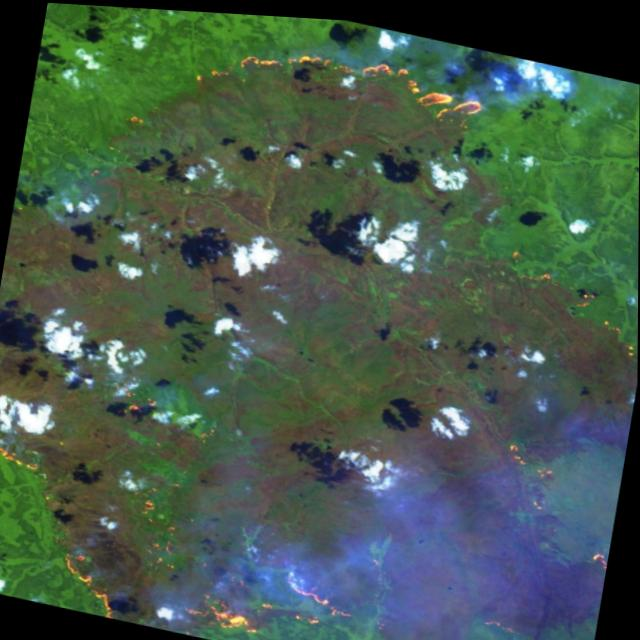fire: (151, 7, 534, 186), (39, 530, 375, 640), (486, 424, 574, 518), (492, 245, 609, 305), (458, 601, 551, 640), (579, 306, 638, 365), (0, 421, 47, 470), (580, 524, 613, 567)
